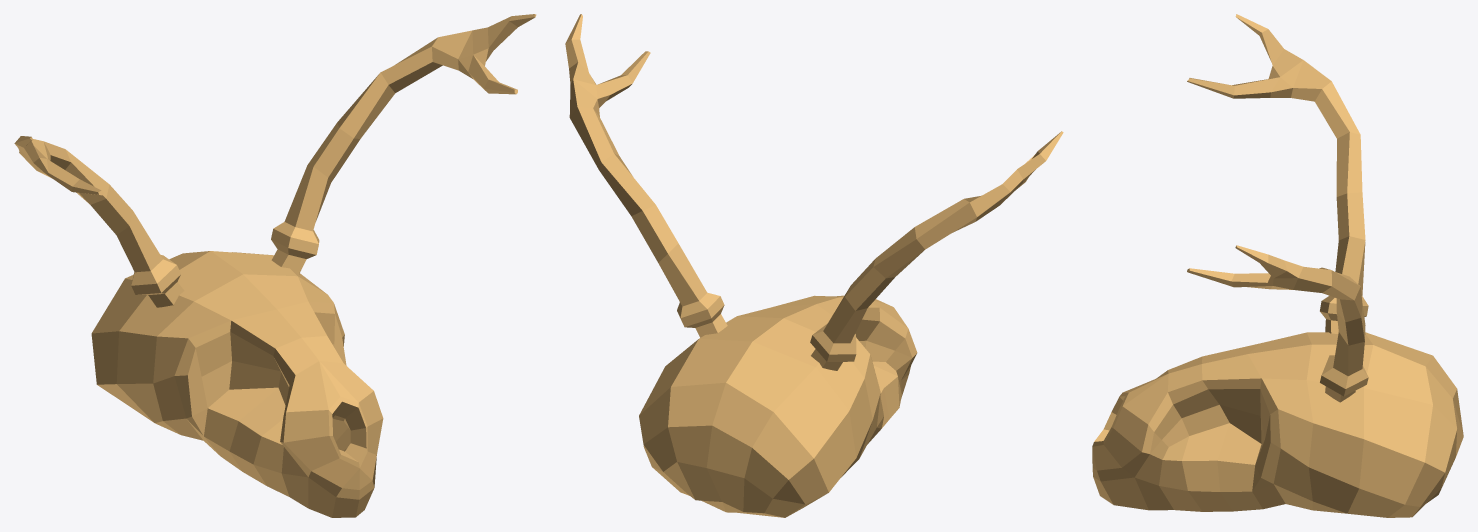
File: Skull_02.fbx
The picture shows the model from 3 angles, left to right: view 1: azimuth 30°, elevation 25°; view 2: azimuth 150°, elevation 25°; view 3: azimuth 270°, elevation 25°; orthographic projection. The views are drawn at different scales.
Parts seen in each view (by area): view 1: Skull_02; view 2: Skull_02; view 3: Skull_02.
Part boxes in pixels (box(x1,y1,x2,y2)): Skull_02: box(14, 14, 536, 517); Skull_02: box(565, 14, 1063, 517); Skull_02: box(1092, 14, 1463, 517).
Bounding box in the file's own units: 108 × 80.72 × 72.57.
